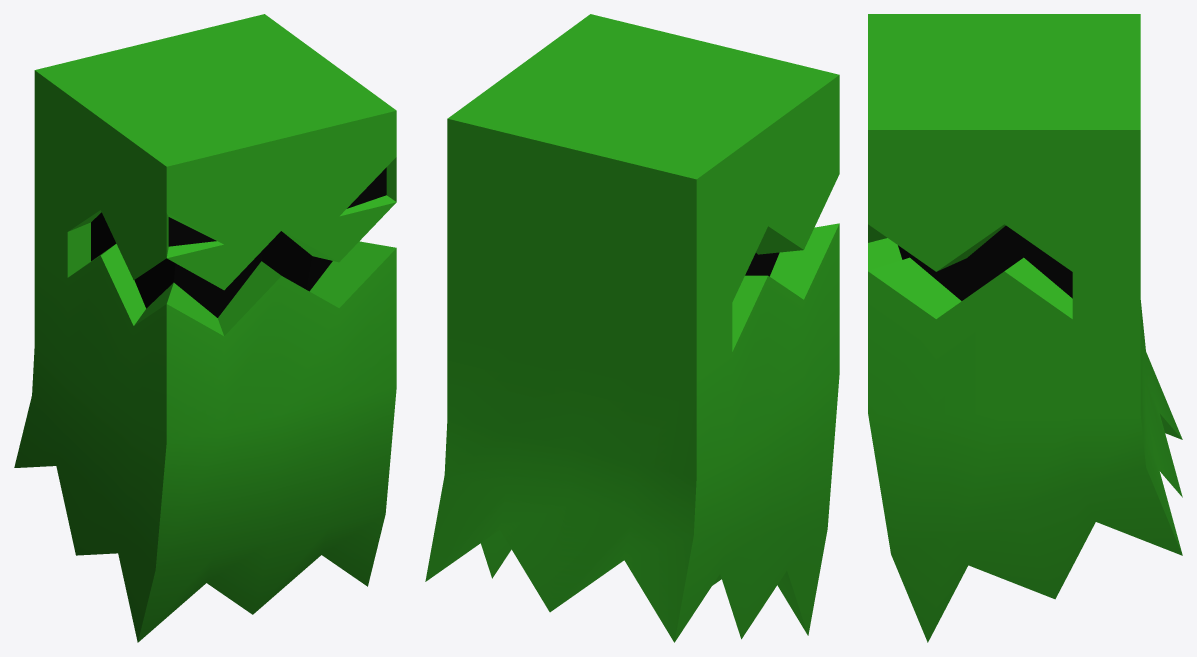
The model's file is Ghost_2.FBX.
3 renders of one model, left to right at view 1: azimuth 30°, elevation 25°; view 2: azimuth 150°, elevation 25°; view 3: azimuth 270°, elevation 25°, orthographic. The views are drawn at different scales.
Parts seen in each view (by area): view 1: Ghost2; view 2: Ghost2; view 3: Ghost2.
Boxes of the visible parts, x1,y1,x2,y2 form: Ghost2: [14, 14, 396, 642]; Ghost2: [425, 14, 839, 642]; Ghost2: [868, 14, 1182, 642].
Bounding box in the file's own units: 7.59 × 15.68 × 8.72.
